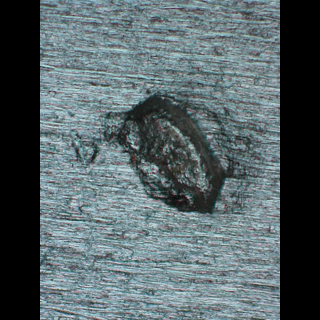d: (100, 87, 243, 220)
